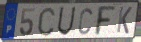5: (19, 7, 36, 37)
C: (37, 6, 57, 38), (78, 7, 94, 36)
F: (95, 5, 117, 37)
K: (116, 6, 133, 36)
U: (56, 6, 77, 37)
